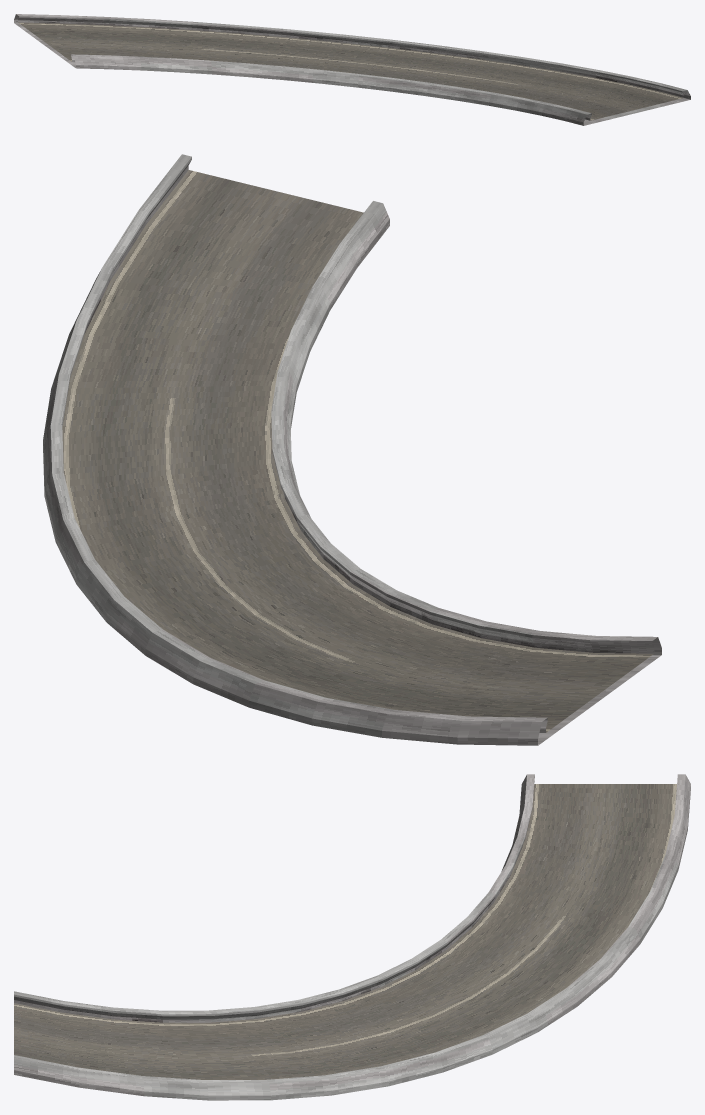
Rendered from turn-left4x4.glb.
The picture shows the model from 3 angles, top to bottom: view 1: azimuth 30°, elevation 25°; view 2: azimuth 150°, elevation 25°; view 3: azimuth 270°, elevation 25°; orthographic projection. The views are drawn at different scales.
Visible parts, largest first — view 1: road-Turn-BiSlopeDown-BiSlopeUp-Even-Left-Size4; view 2: road-Turn-BiSlopeDown-BiSlopeUp-Even-Left-Size4; view 3: road-Turn-BiSlopeDown-BiSlopeUp-Even-Left-Size4.
Boxes of the visible parts, x1,y1,x2,y2 form: road-Turn-BiSlopeDown-BiSlopeUp-Even-Left-Size4: (14, 14, 690, 125); road-Turn-BiSlopeDown-BiSlopeUp-Even-Left-Size4: (43, 154, 661, 745); road-Turn-BiSlopeDown-BiSlopeUp-Even-Left-Size4: (14, 774, 690, 1100).
Bounding box in the file's own units: 4 × 0.5078 × 4.
2 materials, 2 textured.
